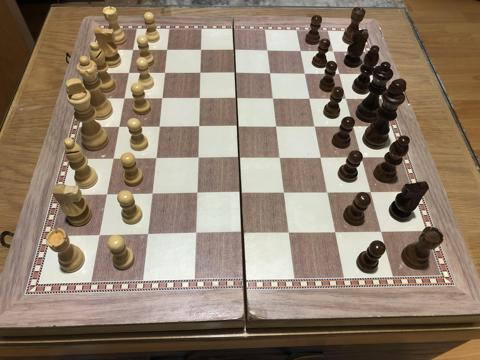xcorner: (328, 45, 341, 58), (229, 67, 242, 80), (194, 67, 207, 80), (158, 67, 171, 80), (122, 67, 135, 80), (192, 121, 205, 134), (152, 121, 165, 134), (112, 121, 125, 134), (274, 152, 287, 165), (106, 153, 119, 166), (278, 187, 291, 200), (99, 189, 112, 202), (329, 226, 342, 239), (140, 229, 153, 242), (295, 45, 308, 57), (262, 45, 275, 57), (229, 44, 241, 57), (195, 44, 207, 57), (161, 44, 173, 57), (126, 44, 139, 56), (334, 68, 347, 80), (300, 67, 312, 80), (265, 67, 277, 80), (304, 93, 317, 105), (267, 93, 280, 105), (230, 93, 243, 105), (193, 93, 206, 105), (155, 93, 168, 105), (117, 93, 130, 105), (348, 120, 360, 133), (309, 121, 322, 133), (356, 151, 368, 164), (315, 152, 328, 164), (233, 152, 245, 165), (191, 153, 204, 165), (365, 186, 377, 199), (234, 188, 247, 200), (190, 188, 202, 201), (283, 227, 295, 240), (236, 228, 248, 241), (188, 229, 201, 241), (92, 230, 104, 243), (341, 93, 353, 105), (271, 121, 283, 133), (232, 121, 244, 133), (149, 153, 161, 165), (322, 187, 334, 199), (145, 189, 157, 201), (375, 226, 387, 238)
